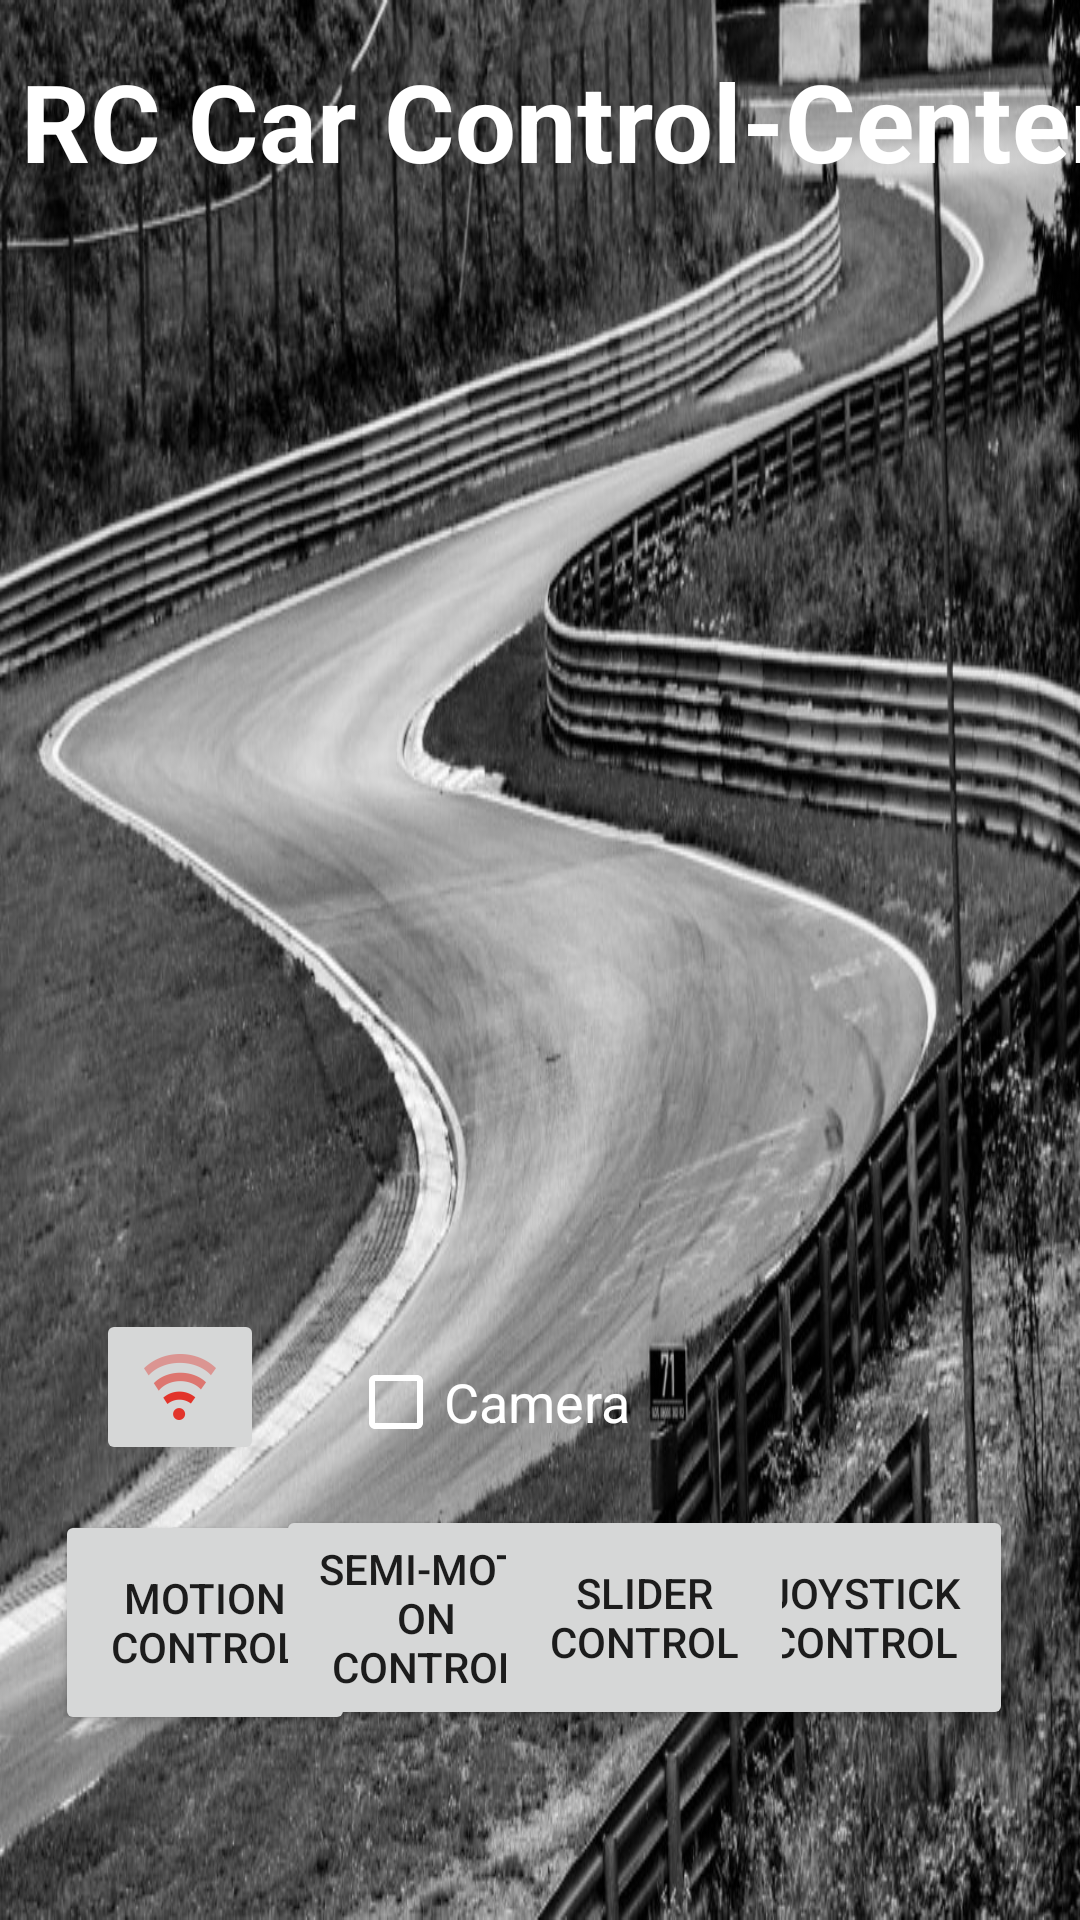

Icons on this 1080w x 1920h Android screen, each with the point to tap as [x,y]:
wifi not connected: [182,1387]
